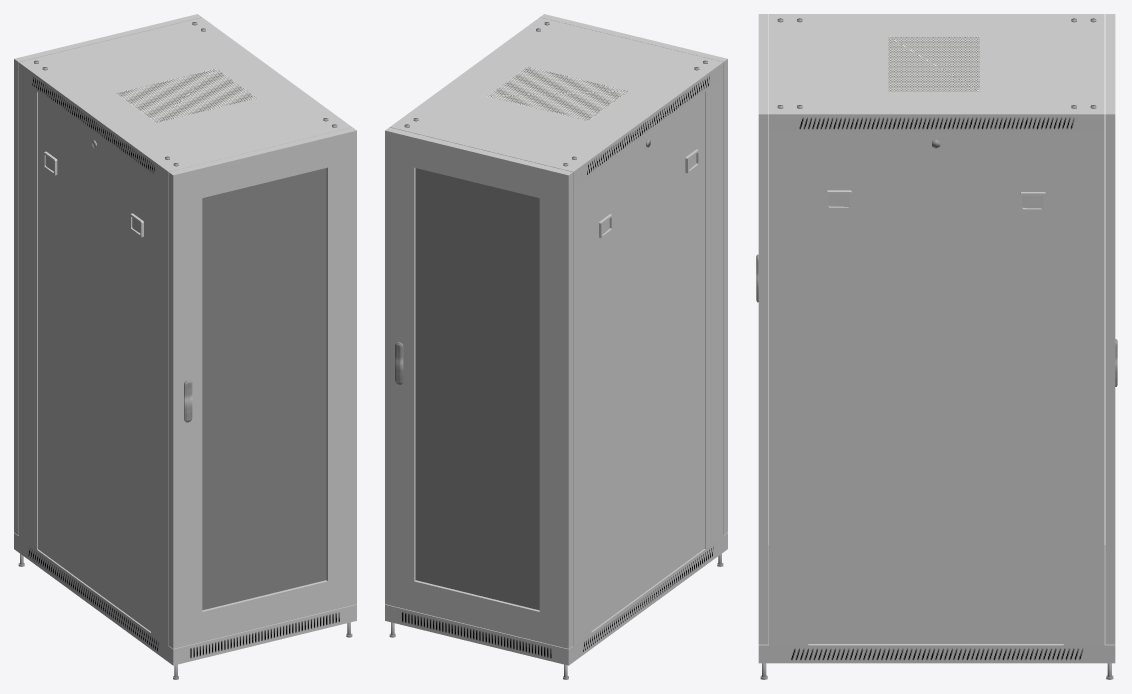
File: RKAG31.fbx
The picture shows the model from 3 angles, left to right: view 1: azimuth 30°, elevation 25°; view 2: azimuth 150°, elevation 25°; view 3: azimuth 270°, elevation 25°; orthographic projection. The views are drawn at different scales.
Parts seen in each view (by area): view 1: frontdoor, Box133, RKAG31, backdoor; view 2: backdoor, Box133, RKAG31, frontdoor; view 3: RKAG31, Box133, frontdoor, backdoor.
Part boxes in pixels (x1,y1,x2,y2): frontdoor: (169,127,356,648); Box133: (14,17,356,679); RKAG31: (38,93,150,631); backdoor: (14,14,201,535); backdoor: (385,127,572,648); Box133: (385,17,727,679); RKAG31: (591,92,704,630); frontdoor: (540,14,727,535); RKAG31: (808,132,1063,643); Box133: (758,14,1115,679); frontdoor: (756,14,768,644); backdoor: (1105,14,1117,644).
Bounding box in the file's own units: 610 × 1583 × 913.
6 materials, 5 textured.
